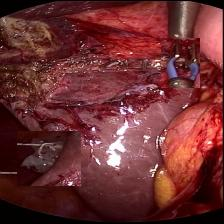Grasper: (162, 37, 200, 87)
Specimen Bag: (18, 130, 81, 185)
